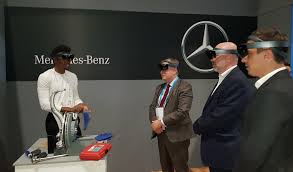hololens: (237, 37, 289, 57), (203, 48, 239, 61), (154, 61, 180, 73), (53, 52, 75, 63)
